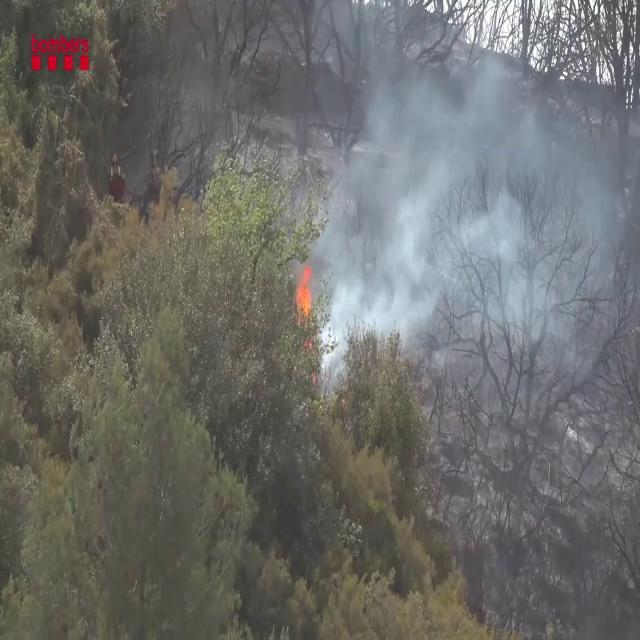Fire: (294, 258, 315, 329)
Smoke: (316, 14, 640, 407)
